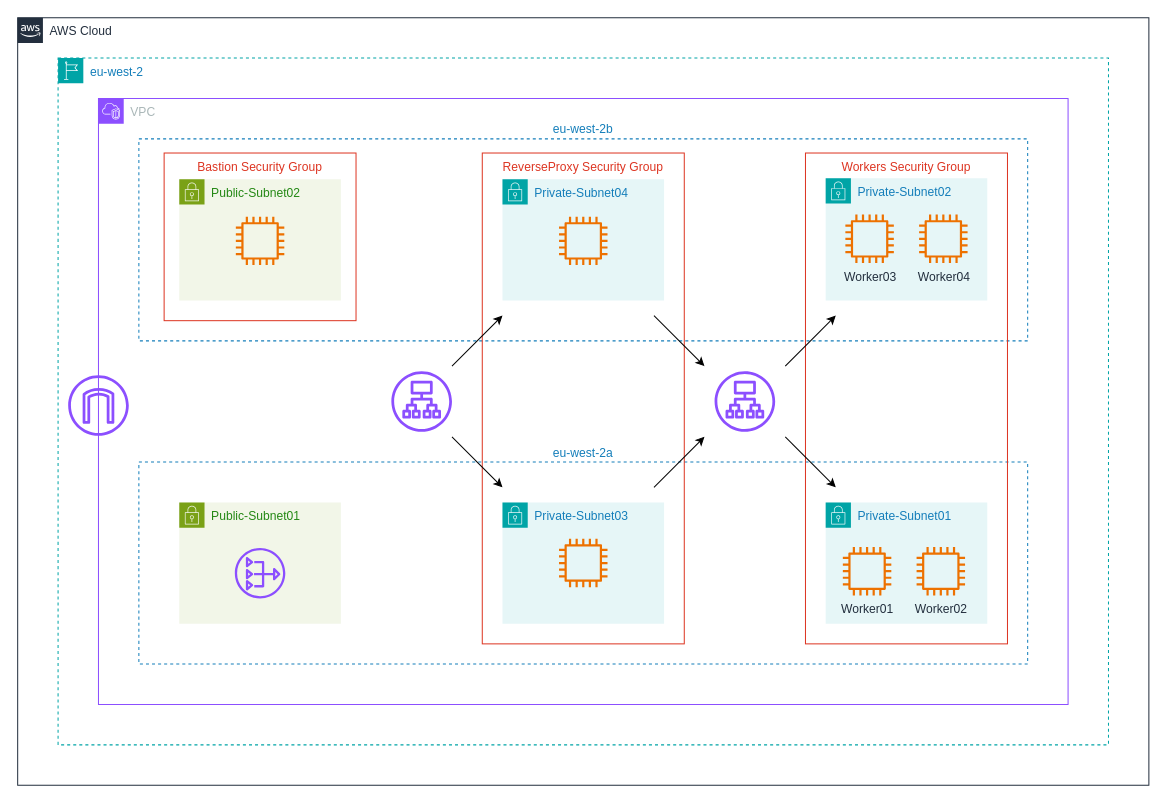
This 1167x803 diagram has some shape labels left out. The shapes that lost their labels are listed below. From the top down, each one's centre as x and y in pixels, then its label:
At [259,240]: "Bastion Host".
At [583,240]: "Reverse-Proxy02".
At [98,405]: "Internet Gateway".
At [421,401]: "Public ALB".
At [744,401]: "Internal ALB".
At [259,572]: "NAT Gateway".
At [583,562]: "Reverse-Proxy01".
